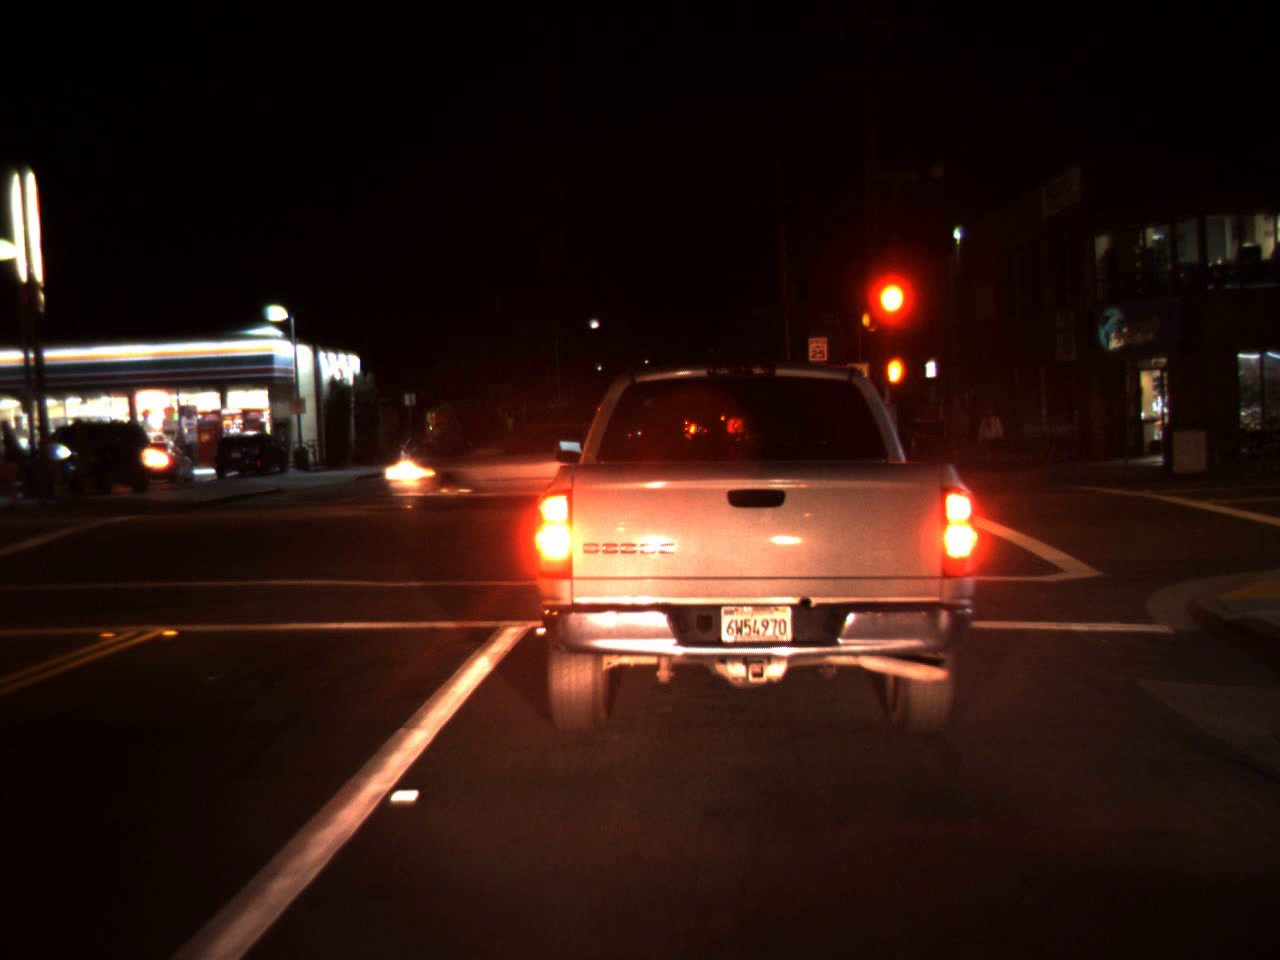stop: (875, 279, 908, 349)
